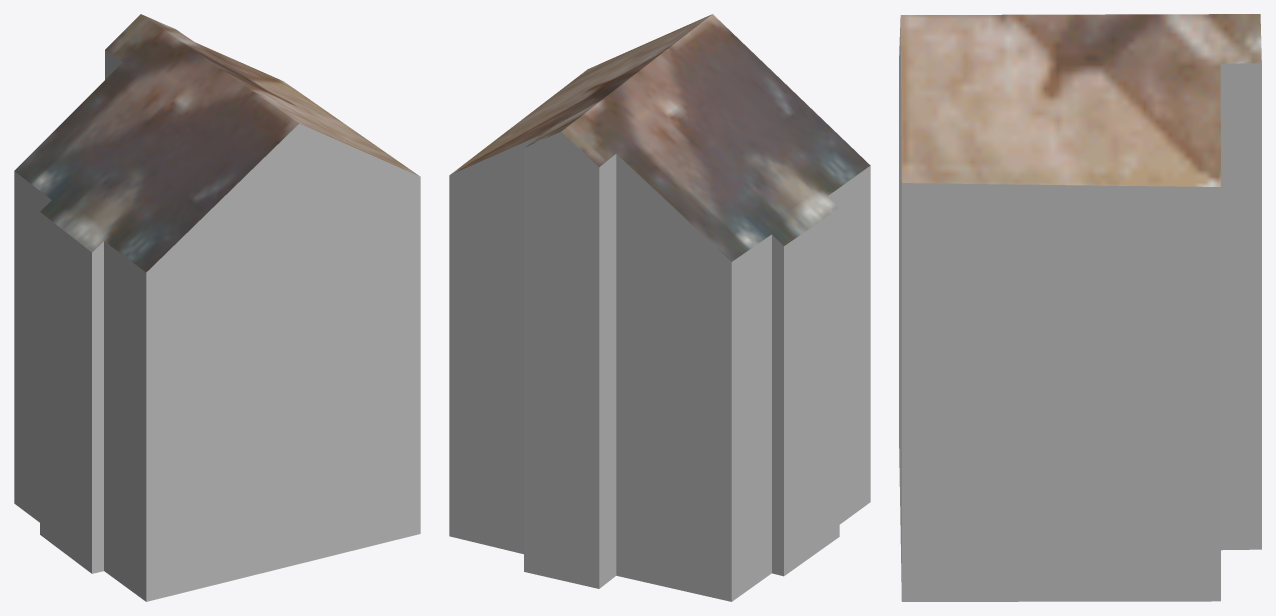
File: DEBW_0010007Txgx.gltf
3 renders of one model, left to right at view 1: azimuth 30°, elevation 25°; view 2: azimuth 150°, elevation 25°; view 3: azimuth 270°, elevation 25°, orthographic. The views are drawn at different scales.
Visible parts, largest first — view 1: Z_UP; view 2: Z_UP; view 3: Z_UP.
Boxes of the visible parts, bbox=[...] form: Z_UP: bbox=[14, 14, 420, 601]; Z_UP: bbox=[449, 14, 870, 601]; Z_UP: bbox=[899, 14, 1261, 601].
Size of the model in its own units: 12.72 by 18.62 by 11.84.
Materials: 2 (1 with a texture image).
